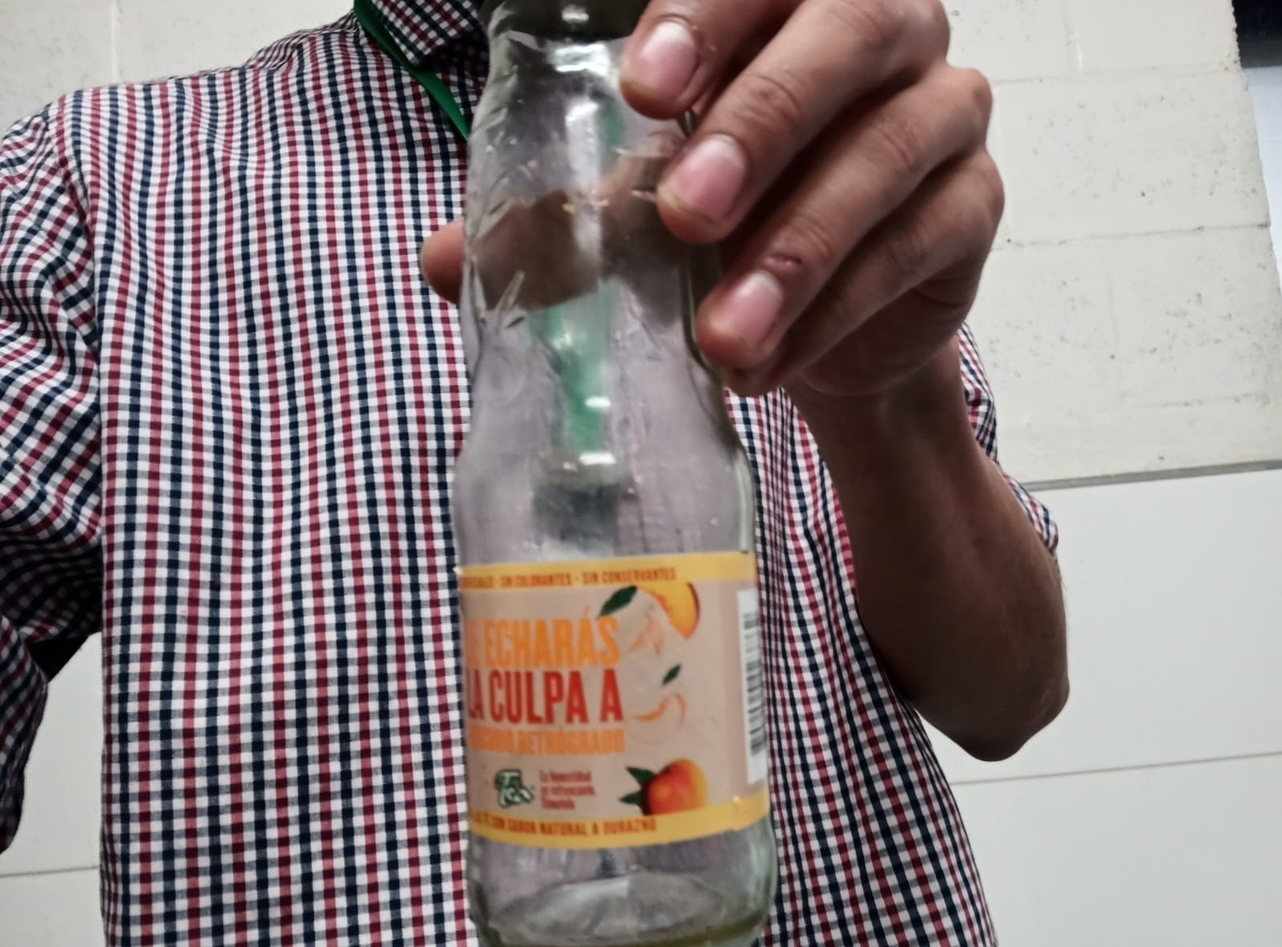Vidrio: (452, 0, 777, 942)
